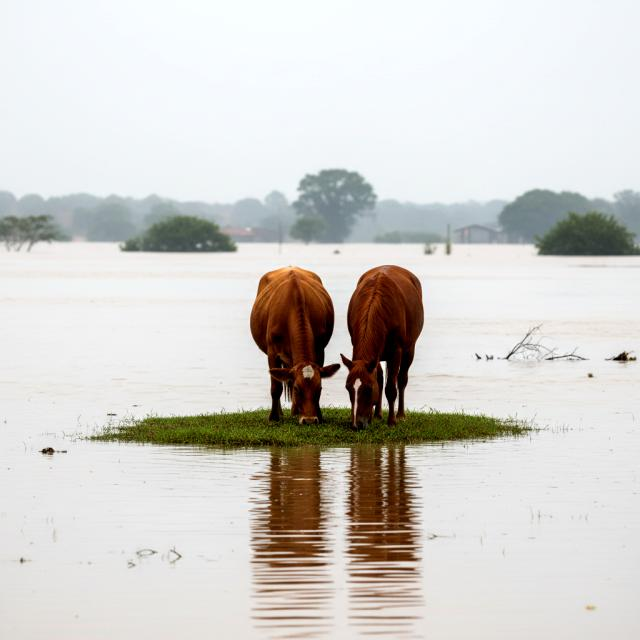cow: (338, 255, 436, 436), (245, 256, 343, 433)
